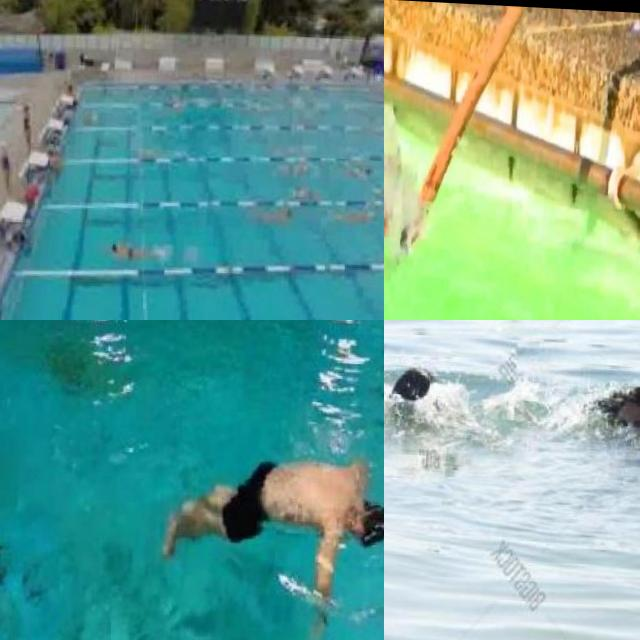drowning: (160, 447, 384, 633), (384, 331, 518, 459), (538, 326, 640, 461)
out of water: (21, 110, 36, 148), (0, 139, 11, 187)
swimming: (107, 238, 160, 268), (246, 203, 289, 227), (338, 202, 382, 225), (284, 147, 310, 177), (133, 145, 168, 165), (348, 154, 373, 174), (292, 188, 318, 205), (370, 183, 384, 203)
